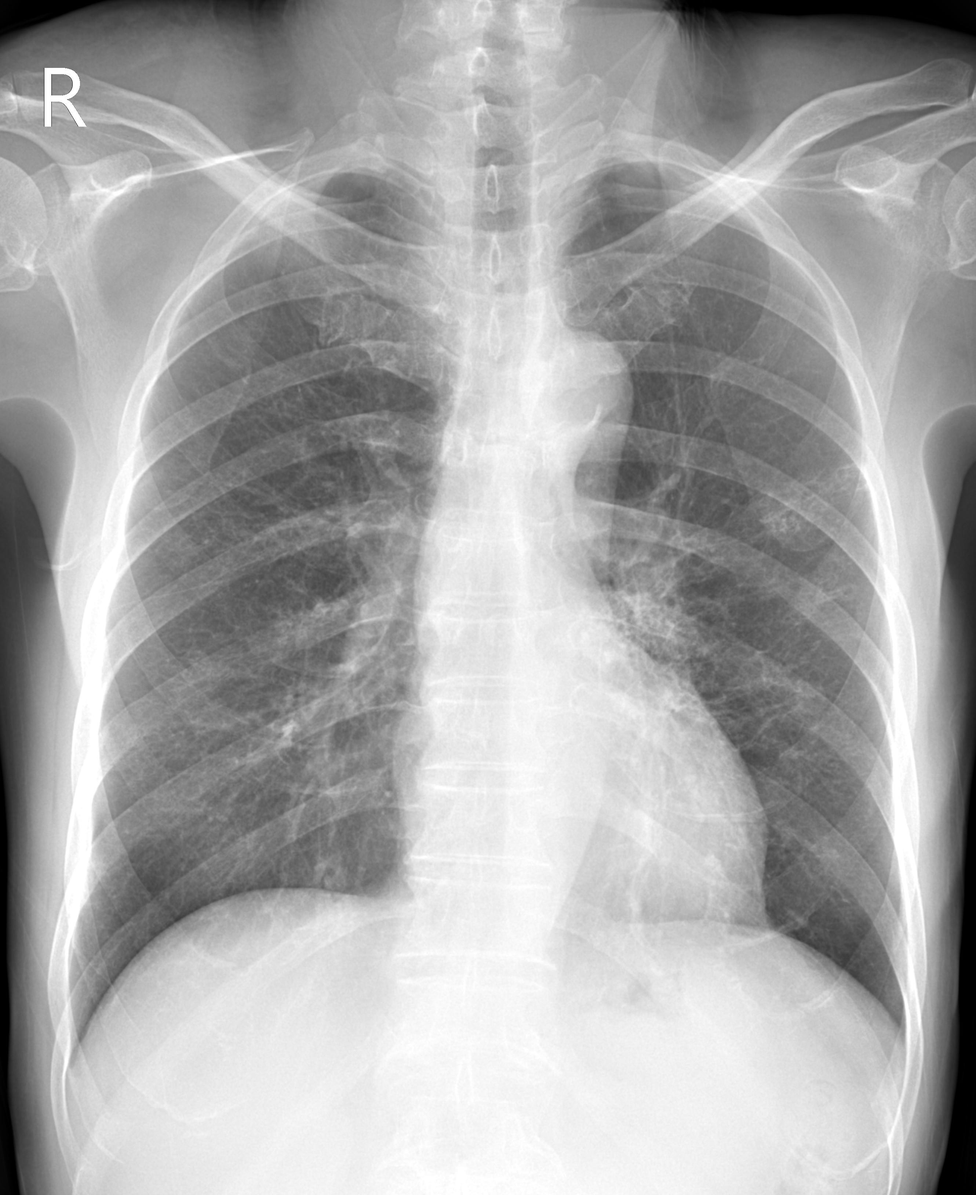Pulmonary fibrosis: (754, 466, 870, 531)
